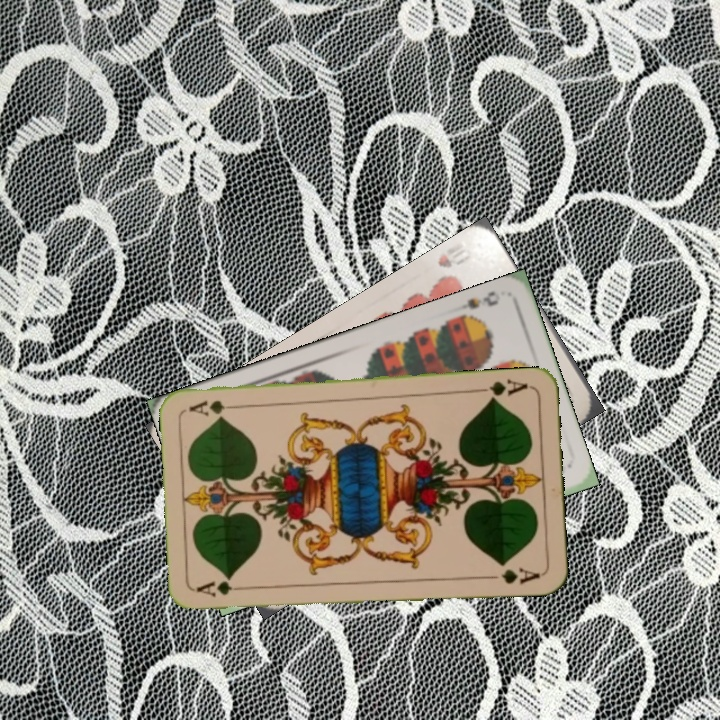GA: (473, 375, 530, 404), (193, 576, 252, 600)
H10: (433, 239, 475, 271)
S9: (451, 287, 501, 325)
